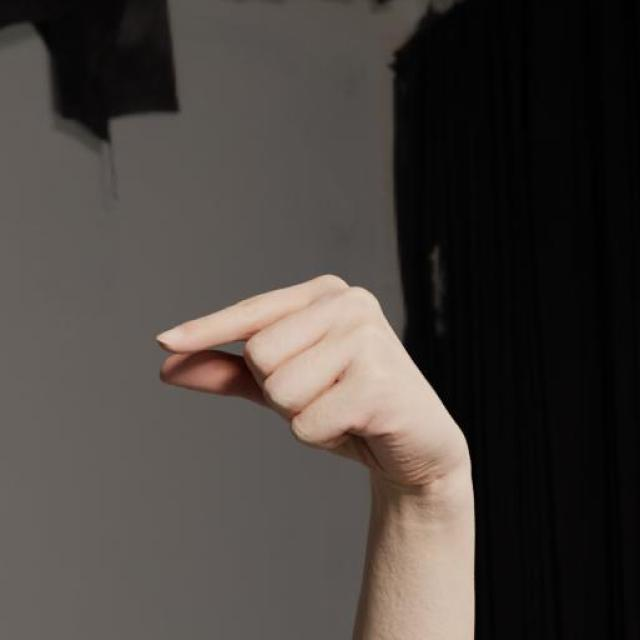G: (149, 273, 480, 486)
